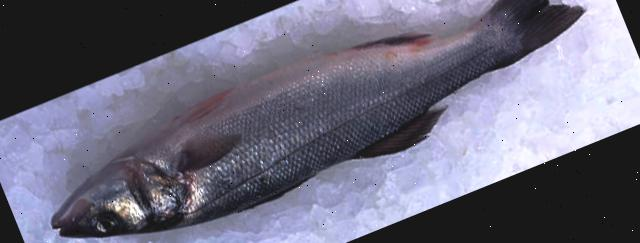Healthy Fish: (47, 0, 585, 238)
